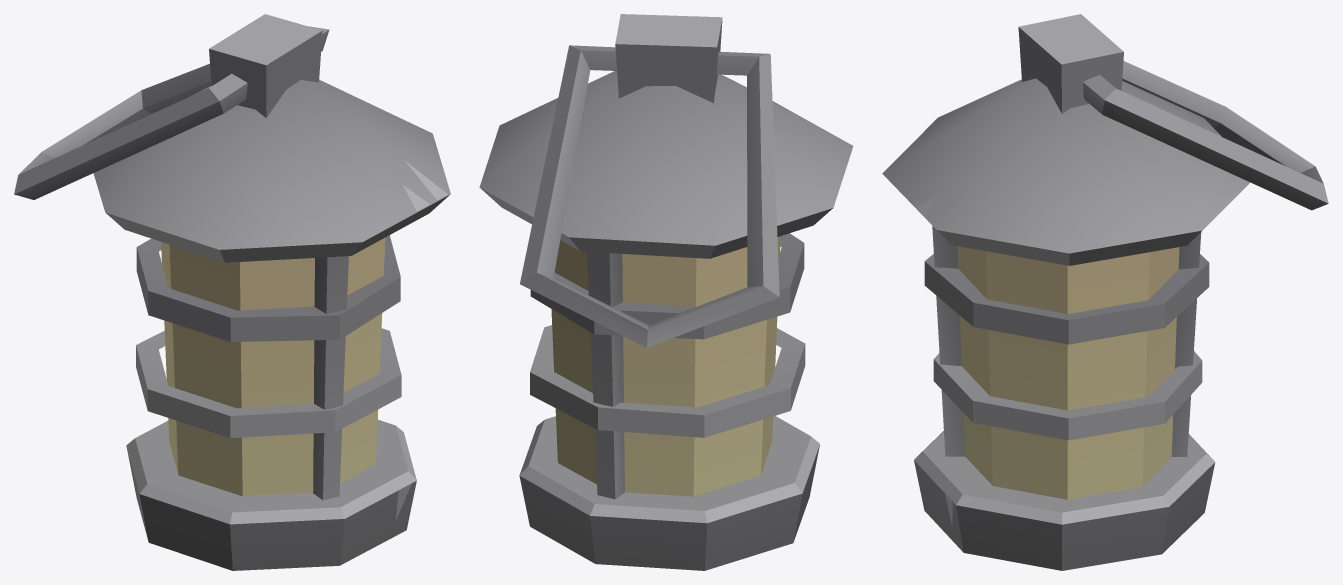
Rendered from Lantern_10.glb.
The picture shows the model from 3 angles, left to right: view 1: azimuth 30°, elevation 25°; view 2: azimuth 150°, elevation 25°; view 3: azimuth 270°, elevation 25°; orthographic projection. The views are drawn at different scales.
Visible parts, largest first — view 1: Lantern; view 2: Lantern; view 3: Lantern.
Part boxes in pixels (x1=…): Lantern: x1=14, y1=14, x2=450, y2=570; Lantern: x1=479, y1=14, x2=853, y2=570; Lantern: x1=882, y1=14, x2=1328, y2=570.
Bounding box in the file's own units: 0.3528 × 0.4602 × 0.3952.
